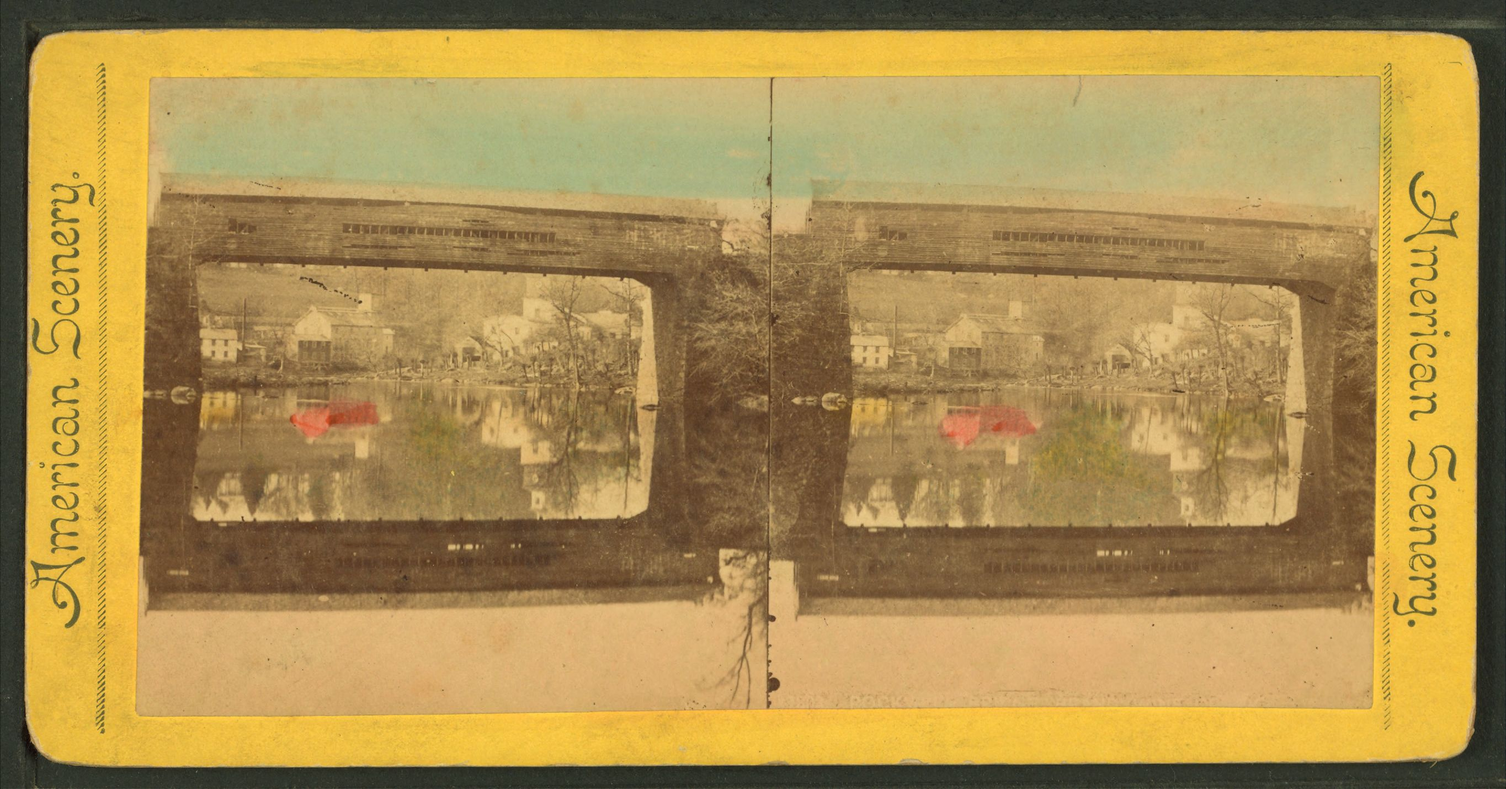half_image: (136, 79, 771, 714), (768, 78, 1381, 709)
